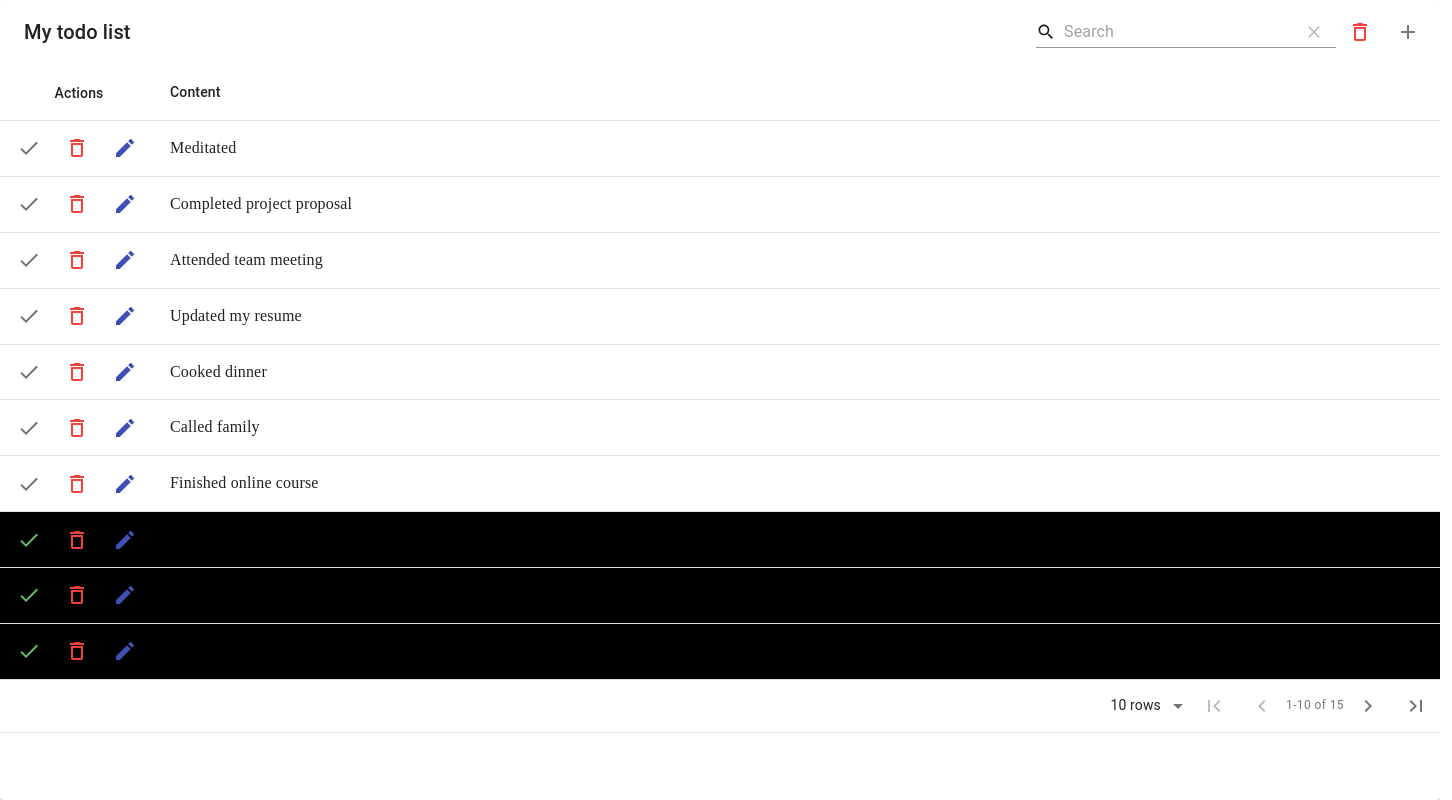
Test case: Should cover all functionalities from the todo list app in desktop environment › Should edit a task
Click the 1st icon with test id "btn-edit" at point(125, 148), box left=113, top=136, right=137, bottom=160
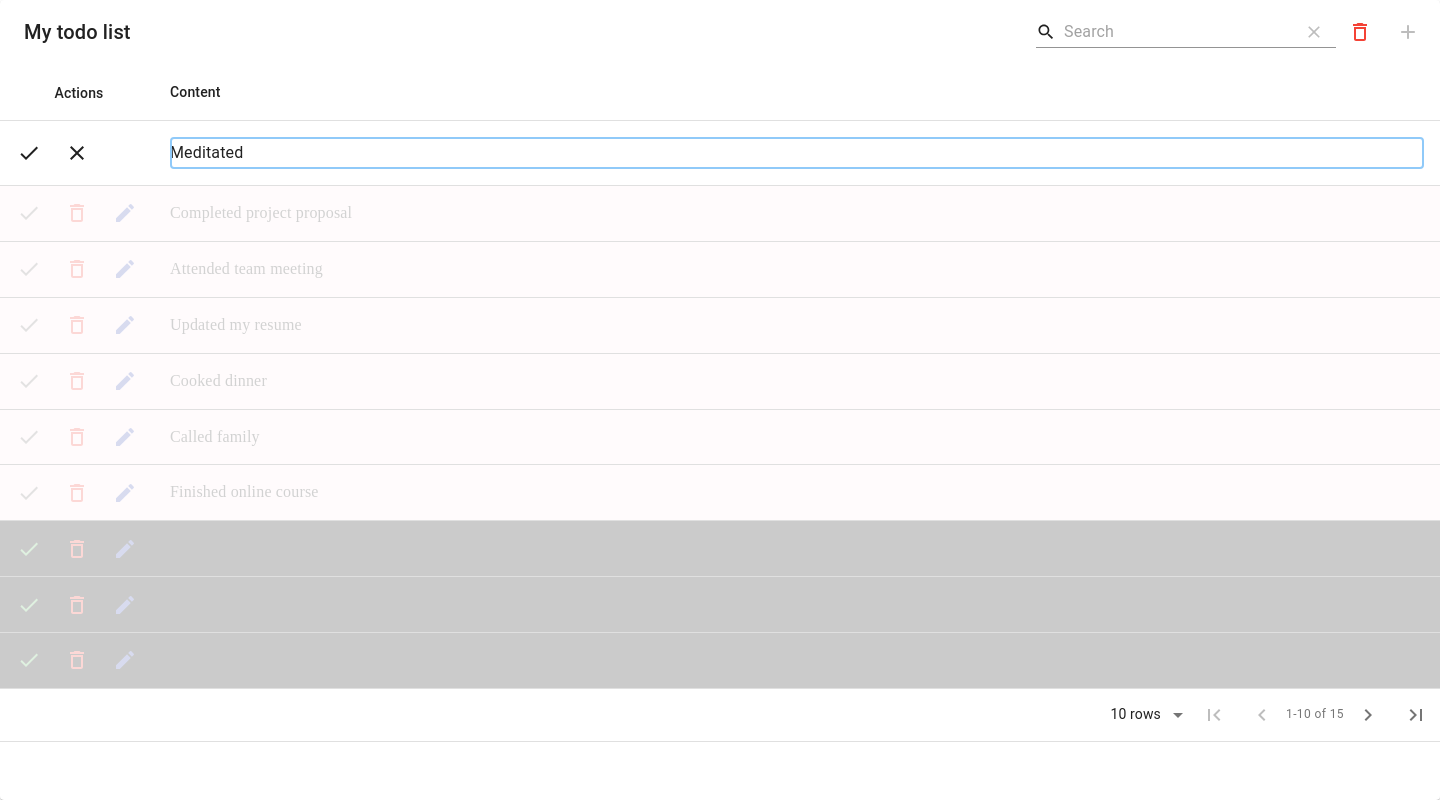
Replace the text in the 2nd field with "task updated" at point(797, 153), box left=170, top=137, right=1424, bottom=169
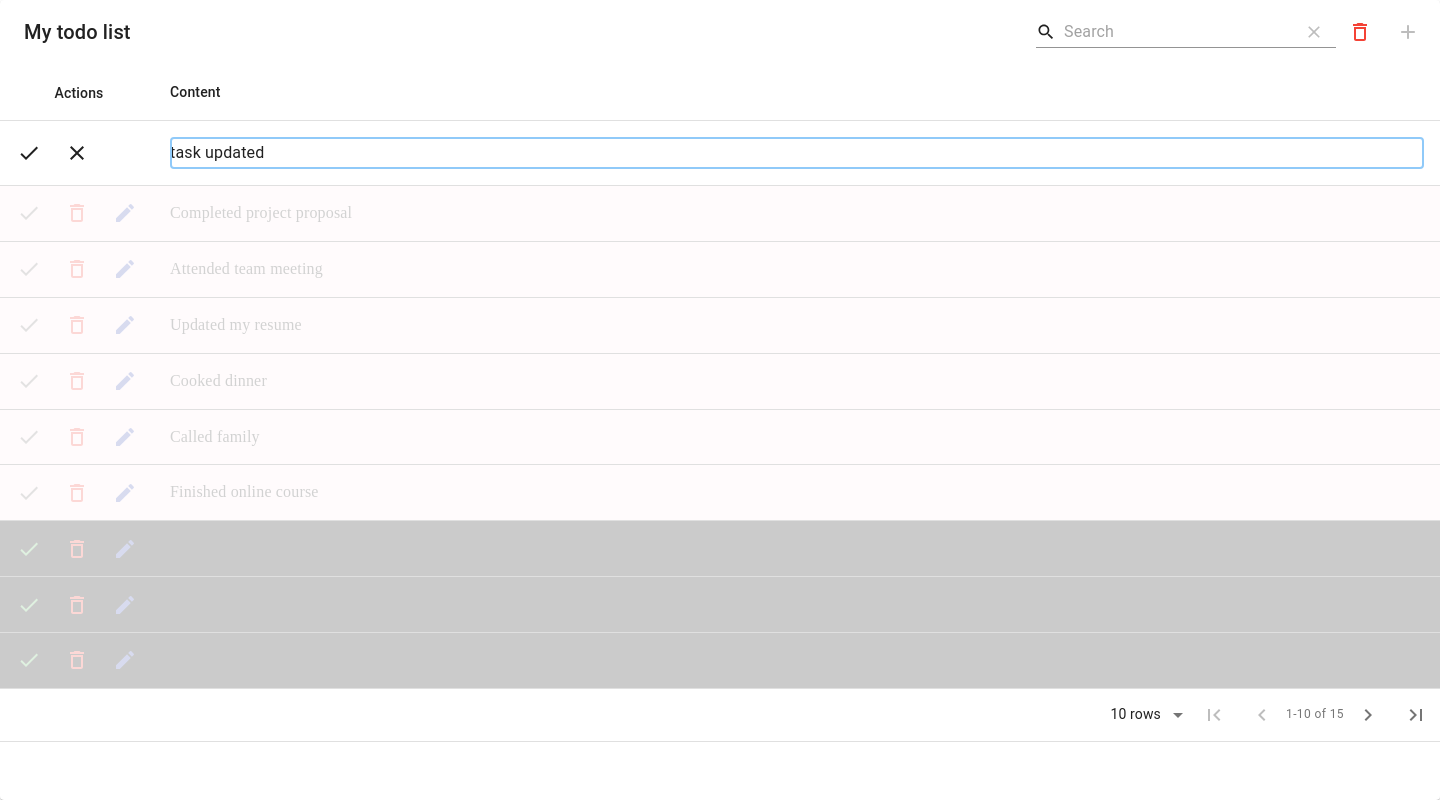
Click the icon with test id "btn-check" at point(29, 153), box left=17, top=141, right=41, bottom=165
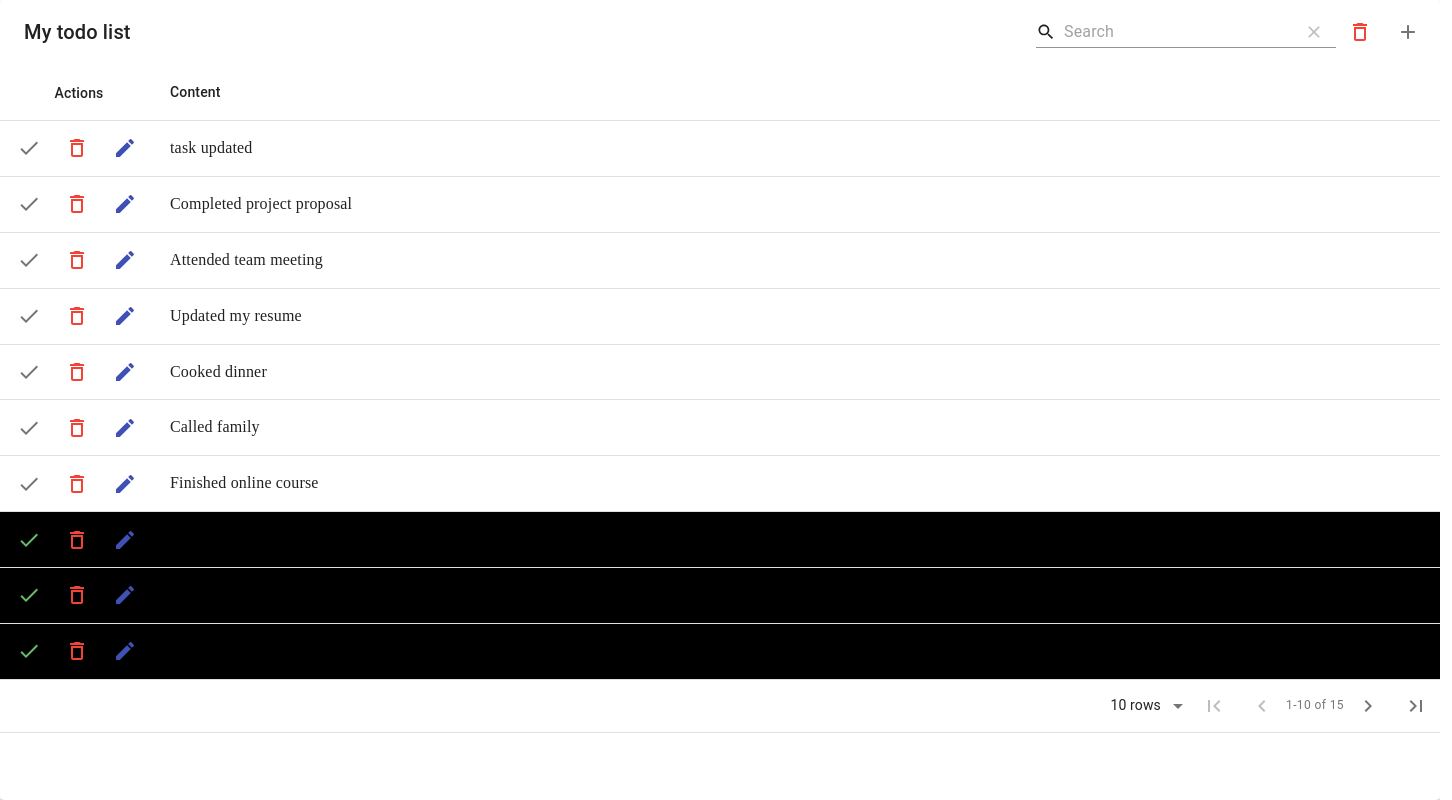
Check: the cell "task updated" is shown, box left=154, top=120, right=1440, bottom=176
